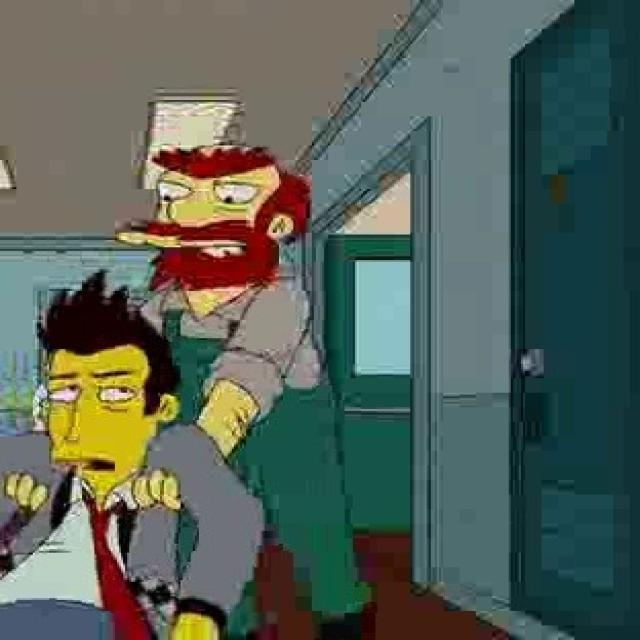Groundskeeper Willie: (115, 143, 316, 297)
